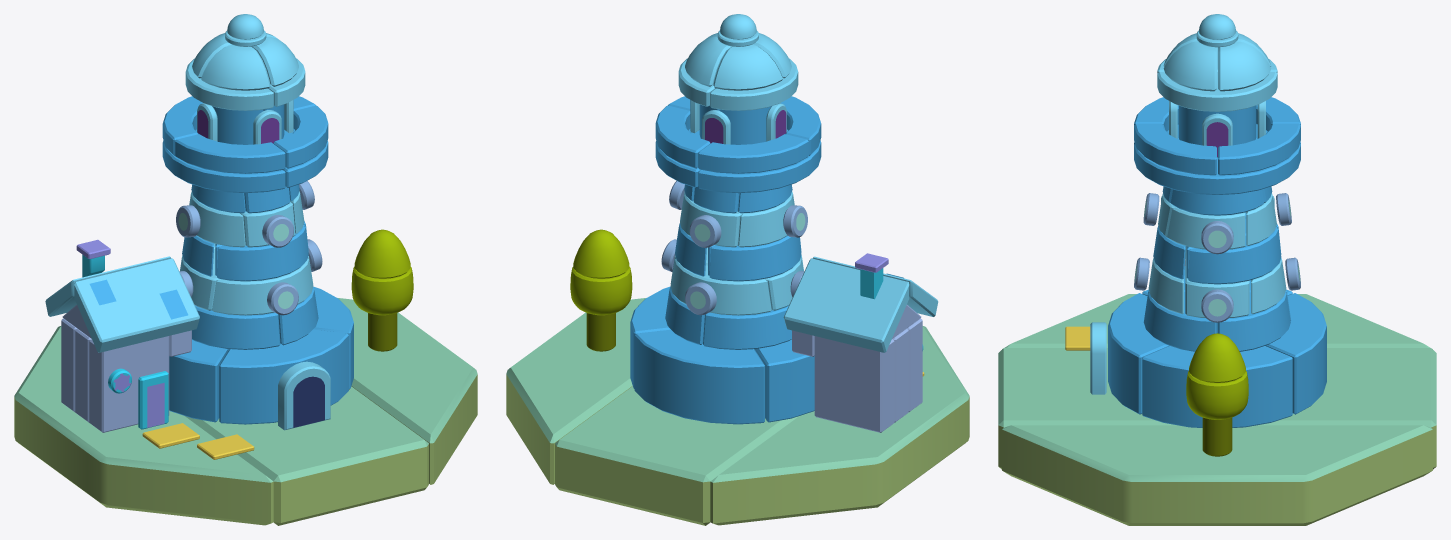
3 renders of one model, left to right at view 1: azimuth 30°, elevation 25°; view 2: azimuth 150°, elevation 25°; view 3: azimuth 270°, elevation 25°, orthographic.
Visible parts, largest first — view 1: Cube_L4, Cube_L4_1, Cube_L4_2, Cube_L3_6, Cube_L3_17, Cube_L3_4, Cube_L3_14, Cube_L1_2, Cube_L2_16, Cube_L3_16, Cube_L2_4, Cube_L2_11 (+34 smaller); view 2: Cube_L4, Cube_L4_1, Cube_L4_2, Cube_L3_15, Cube_L3_7, Cube_L3_5, Cube_L3_14, Cube_L1_3, Cube_L2_6, Cube_L2_5, Cube_L2_13, Cube_L1_1 (+30 smaller); view 3: Cube_L4_2, Cube_L4_1, Cube_L3_18, Cube_L4, Cube_L3_17, Cube_L3_15, Cube_L1_18, Cube_L2_20, Cube_L1_16, Cube_L1_17, Cube_L1_15, Cube_L2_21 (+22 smaller).
Part boxes in pixels (x1,y1,x2,y2): Cube_L4: [14, 326, 273, 525]; Cube_L4_1: [185, 386, 428, 525]; Cube_L4_2: [338, 298, 477, 484]; Cube_L3_6: [74, 258, 199, 352]; Cube_L3_17: [219, 329, 348, 424]; Cube_L3_4: [89, 336, 169, 432]; Cube_L3_14: [169, 339, 228, 422]; Cube_L1_2: [175, 134, 285, 173]; Cube_L2_16: [217, 226, 308, 281]; Cube_L3_16: [278, 361, 330, 430]; Cube_L2_4: [192, 305, 280, 349]; Cube_L2_11: [212, 258, 313, 315]; Cube_L4: [710, 326, 969, 525]; Cube_L4_1: [555, 386, 798, 525]; Cube_L4_2: [506, 298, 645, 484]; Cube_L3_15: [634, 329, 764, 424]; Cube_L3_7: [783, 258, 909, 352]; Cube_L3_5: [814, 336, 894, 432]; Cube_L3_14: [755, 339, 814, 422]; Cube_L1_3: [698, 134, 808, 173]; Cube_L2_6: [709, 235, 801, 281]; Cube_L2_5: [703, 305, 791, 349]; Cube_L2_13: [670, 258, 771, 315]; Cube_L1_1: [698, 129, 821, 193]; Cube_L4_2: [1002, 425, 1432, 525]; Cube_L4_1: [998, 348, 1436, 469]; Cube_L3_18: [1142, 346, 1292, 427]; Cube_L4: [1002, 294, 1432, 349]; Cube_L3_17: [1108, 293, 1169, 414]; Cube_L3_15: [1265, 293, 1326, 414]; Cube_L1_18: [1134, 144, 1300, 194]; Cube_L2_20: [1188, 228, 1281, 284]; Cube_L1_16: [1134, 123, 1216, 175]; Cube_L1_17: [1218, 123, 1300, 175]; Cube_L1_15: [1157, 72, 1277, 111]; Cube_L2_21: [1143, 292, 1216, 351].
Bounding box in the file's own units: 5.66 × 5.96 × 5.65.
